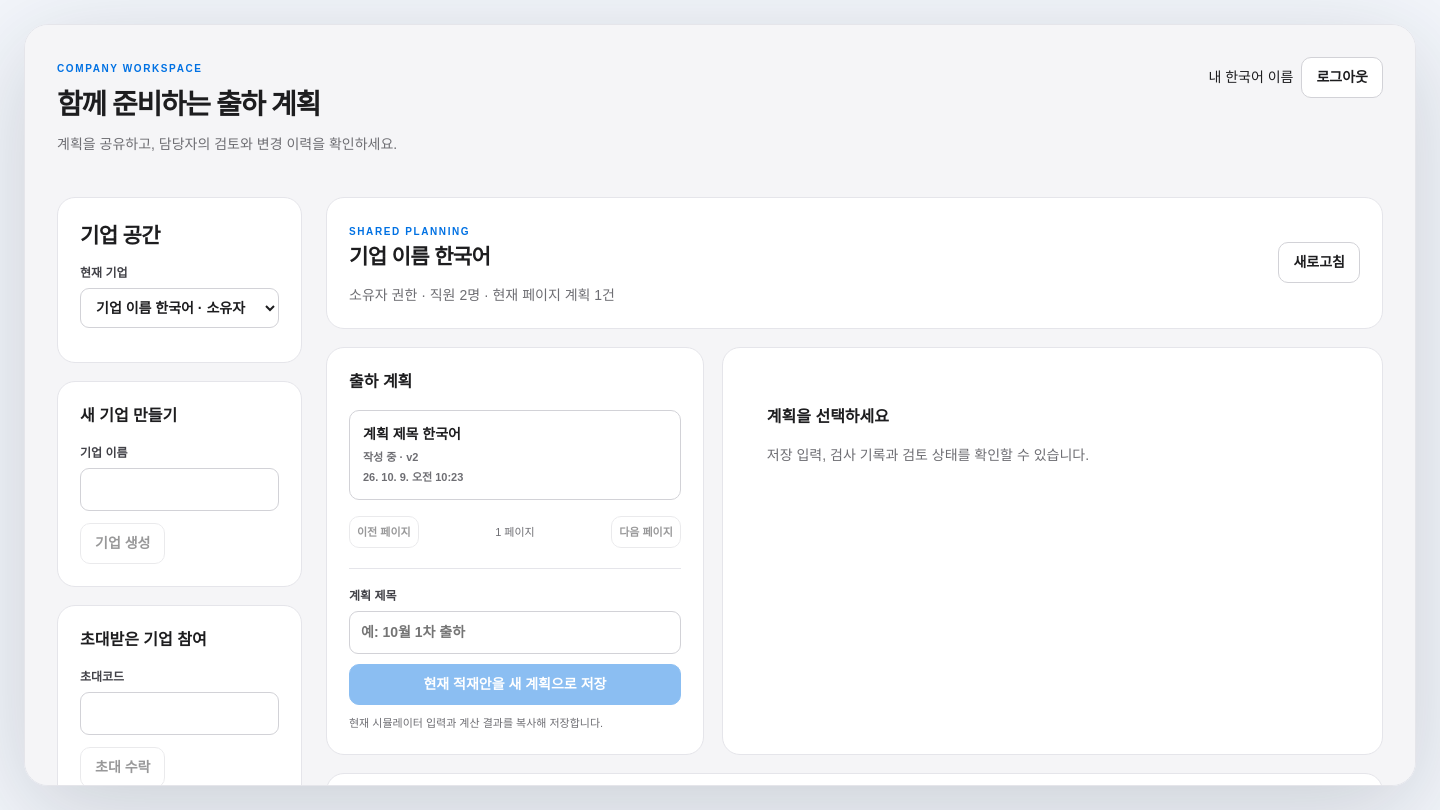
it: translates shared plans, diagnostics and dates without modifying user content in ko
This screenshot has width=1440, height=810.
Click the button that starts with "계획 제목 한국어" at [412, 434], box [349,410,681,500]
(page scrolled)
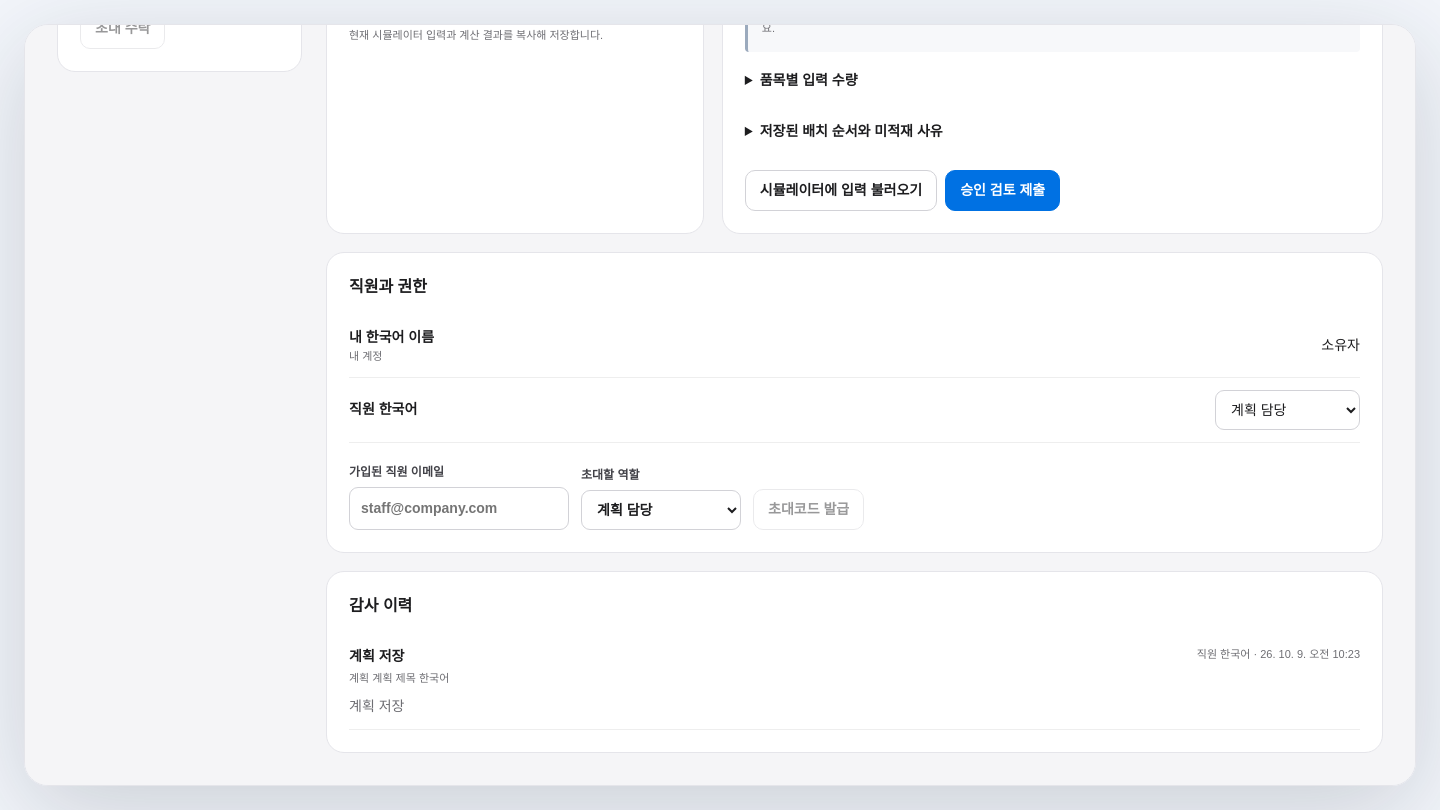
Expected: the text "직원 한국어" is shown, [349,399,417,420]
Expected: the text "직원과 권한" is shown, [349,278,427,295]
Expected: the text "감사 이력" is shown, [349,596,412,614]
